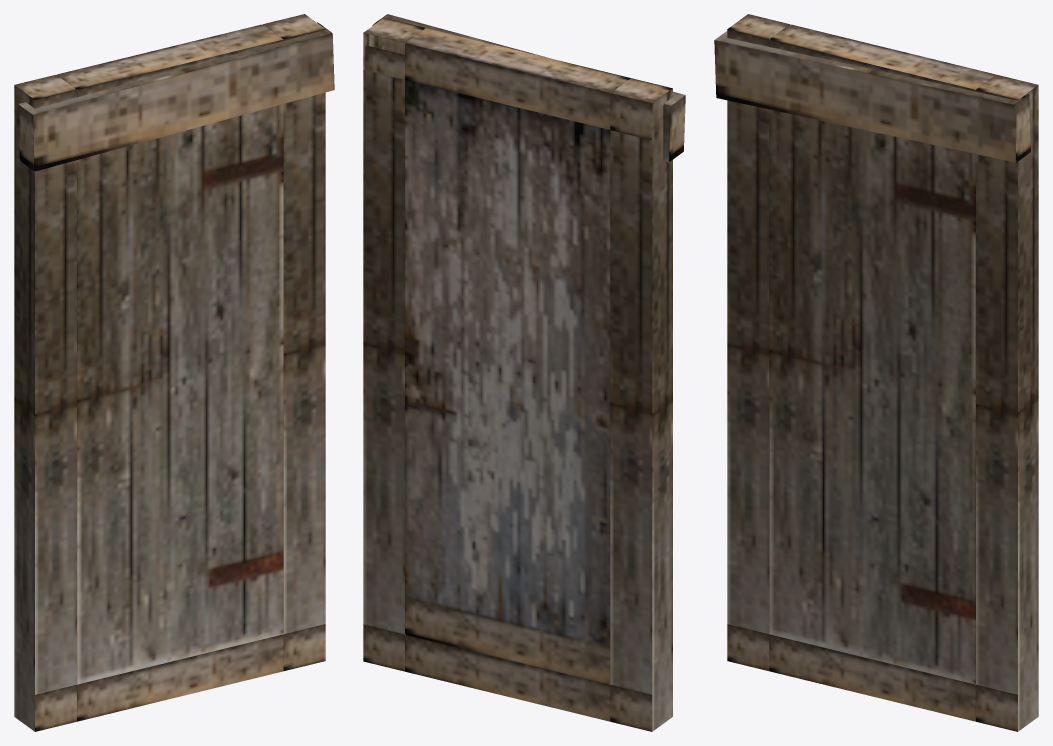
The model's file is Puerta_Sótano.obj.
3 renders of one model, left to right at view 1: azimuth 30°, elevation 25°; view 2: azimuth 150°, elevation 25°; view 3: azimuth 330°, elevation 25°, orthographic.
Visible parts, largest first — view 1: Puerta_sótano; view 2: Puerta_sótano; view 3: Puerta_sótano.
Part boxes in pixels (left/top/right/bottom): Puerta_sótano: left=14, top=14, right=334, bottom=731; Puerta_sótano: left=363, top=14, right=685, bottom=731; Puerta_sótano: left=714, top=14, right=1038, bottom=731.
Bounding box in the file's own units: 0.625 × 1.25 × 0.0938.
